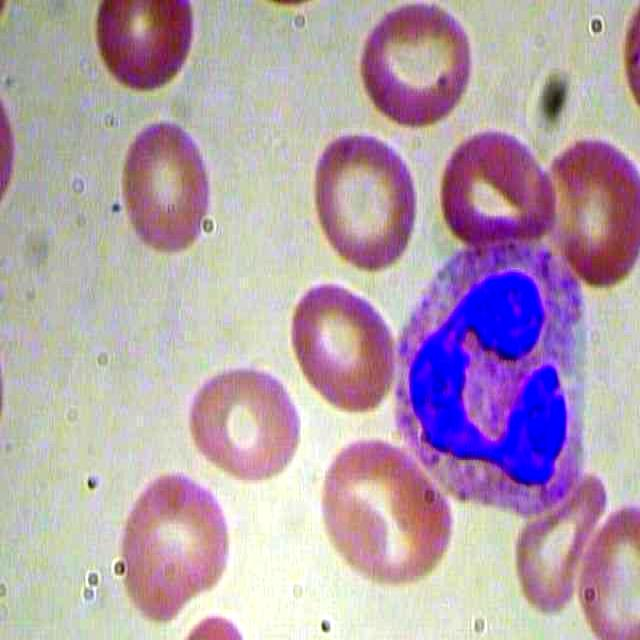RBC: (317, 428, 455, 593), (112, 465, 236, 631), (108, 103, 232, 268), (300, 124, 423, 276), (350, 1, 478, 135), (434, 118, 568, 246), (291, 268, 403, 419), (540, 137, 640, 291), (173, 365, 305, 480), (95, 1, 200, 99)
WBC: (393, 234, 597, 522)
